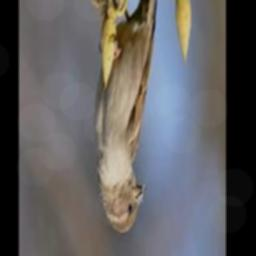Sparrow: (94, 0, 160, 234)
